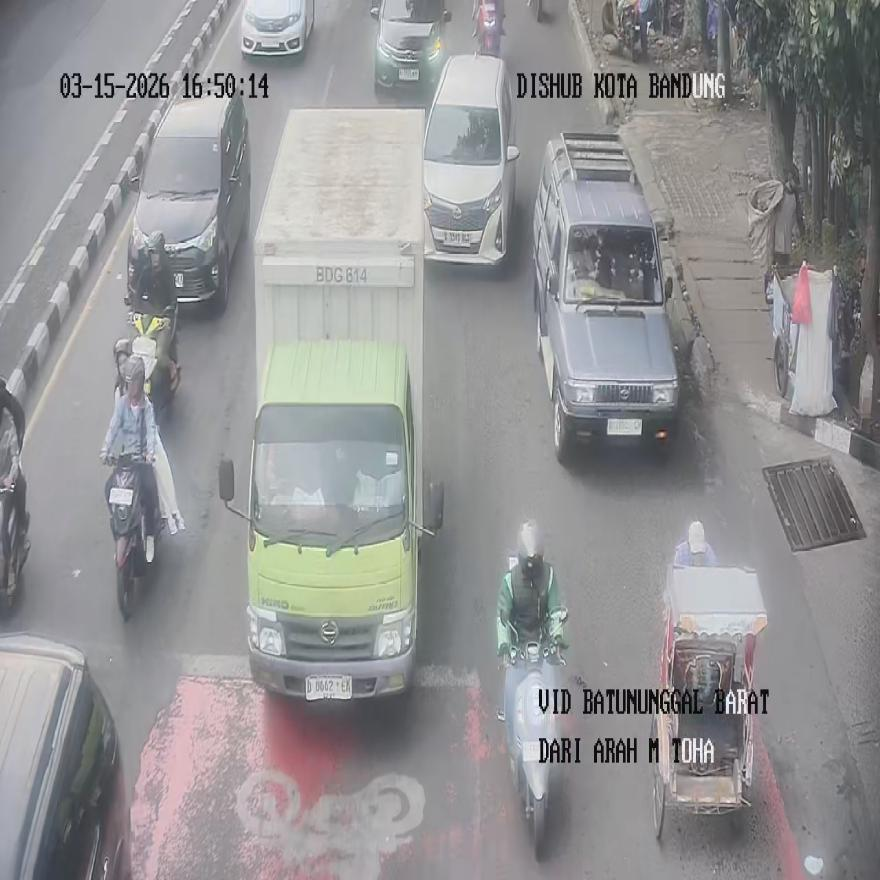Mobil: (532, 132, 680, 461), (0, 633, 132, 879), (124, 85, 250, 312), (421, 53, 519, 265), (372, 0, 451, 95), (239, 0, 313, 57)
Truk ringan: (218, 109, 443, 704)
